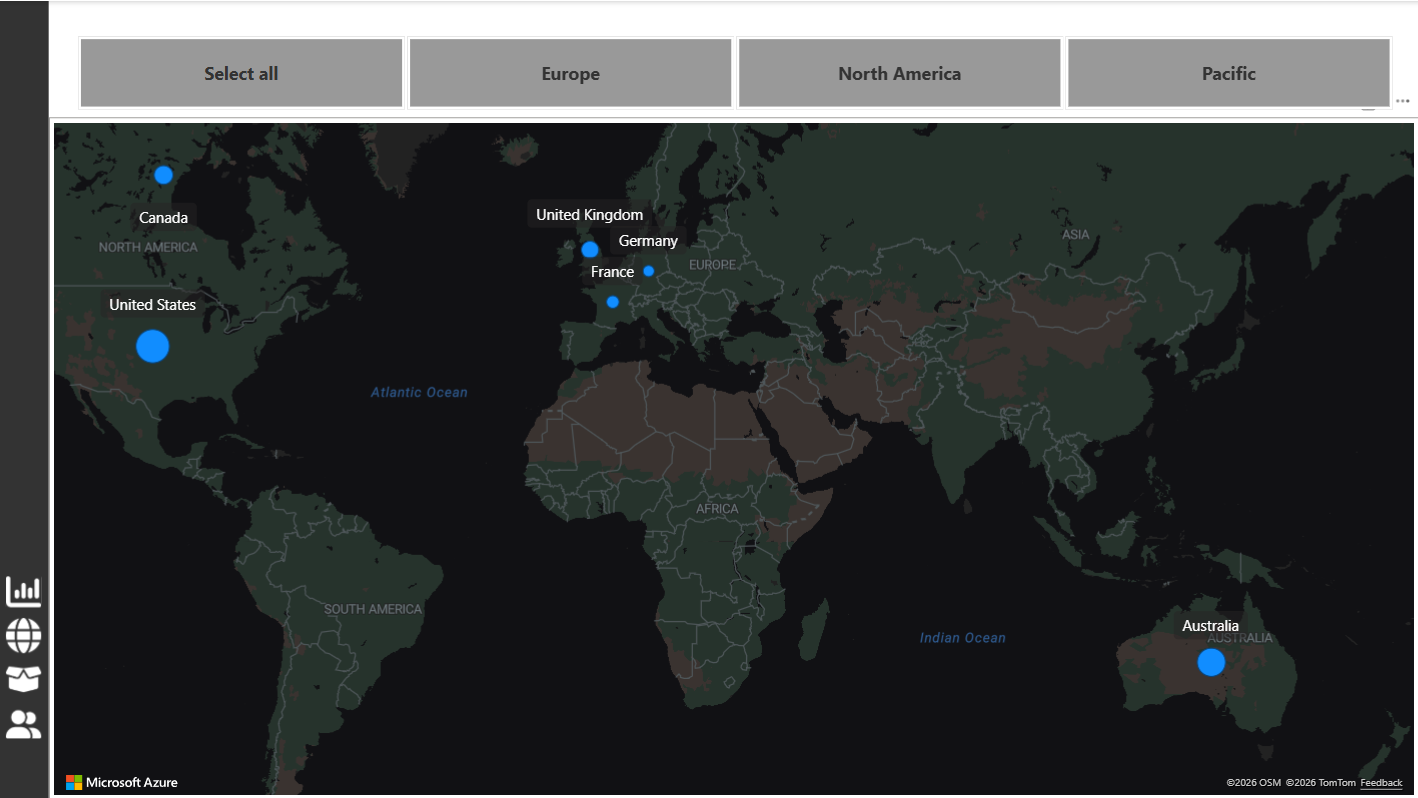

What the dashboard file says about the page in this screenshot:
{"tool":"powerbi","page":{"name":"Map","canvas":[1280,720],"ordinal":1},"visuals":[{"type":"shape","box":[0,0,45,720],"z":0},{"type":"azureMap","fields":{"Category":["Territory Lookup.Country"],"Size":["Measure Table.Total Orders"]},"box":[44.8,104.5,1235.3,615.8],"z":1000},{"type":"slicer","fields":{"Values":["Territory Lookup.Continent"]},"box":[44.8,24.9,1235.3,79.6],"z":2000},{"type":"actionButton","box":[2.5,631.9,44.8,39.8],"z":2001},{"type":"actionButton","box":[2.5,552.3,44.8,39.8],"z":2002},{"type":"actionButton","box":[2.5,592.1,44.8,39.8],"z":2003},{"type":"actionButton","box":[2.5,512.5,44.8,39.8],"z":2004}]}

Visuals, with their boxes in screenshot pixels (x1, y1, x2, y2):
shape: {"left": 0, "top": 4, "right": 49, "bottom": 790}
azureMap - Territory Lookup.Country x Measure Table.Total Orders: {"left": 49, "top": 118, "right": 1399, "bottom": 791}
slicer - Territory Lookup.Continent: {"left": 49, "top": 31, "right": 1399, "bottom": 118}
actionButton: {"left": 3, "top": 694, "right": 52, "bottom": 738}
actionButton: {"left": 3, "top": 607, "right": 52, "bottom": 651}
actionButton: {"left": 3, "top": 651, "right": 52, "bottom": 694}
actionButton: {"left": 3, "top": 564, "right": 52, "bottom": 607}
